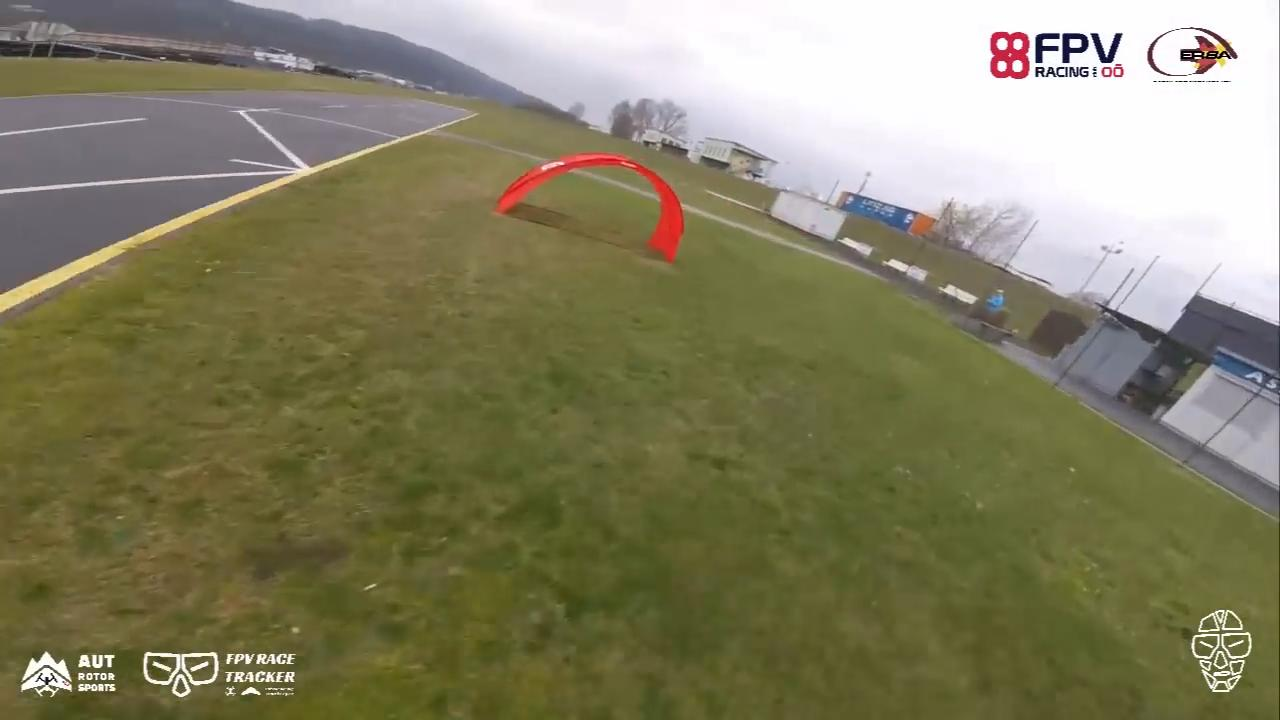gate: (488, 147, 688, 267)
